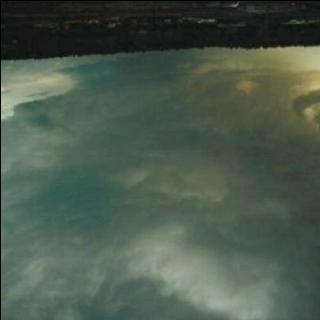Stratocumulus: (0, 42, 320, 320)
